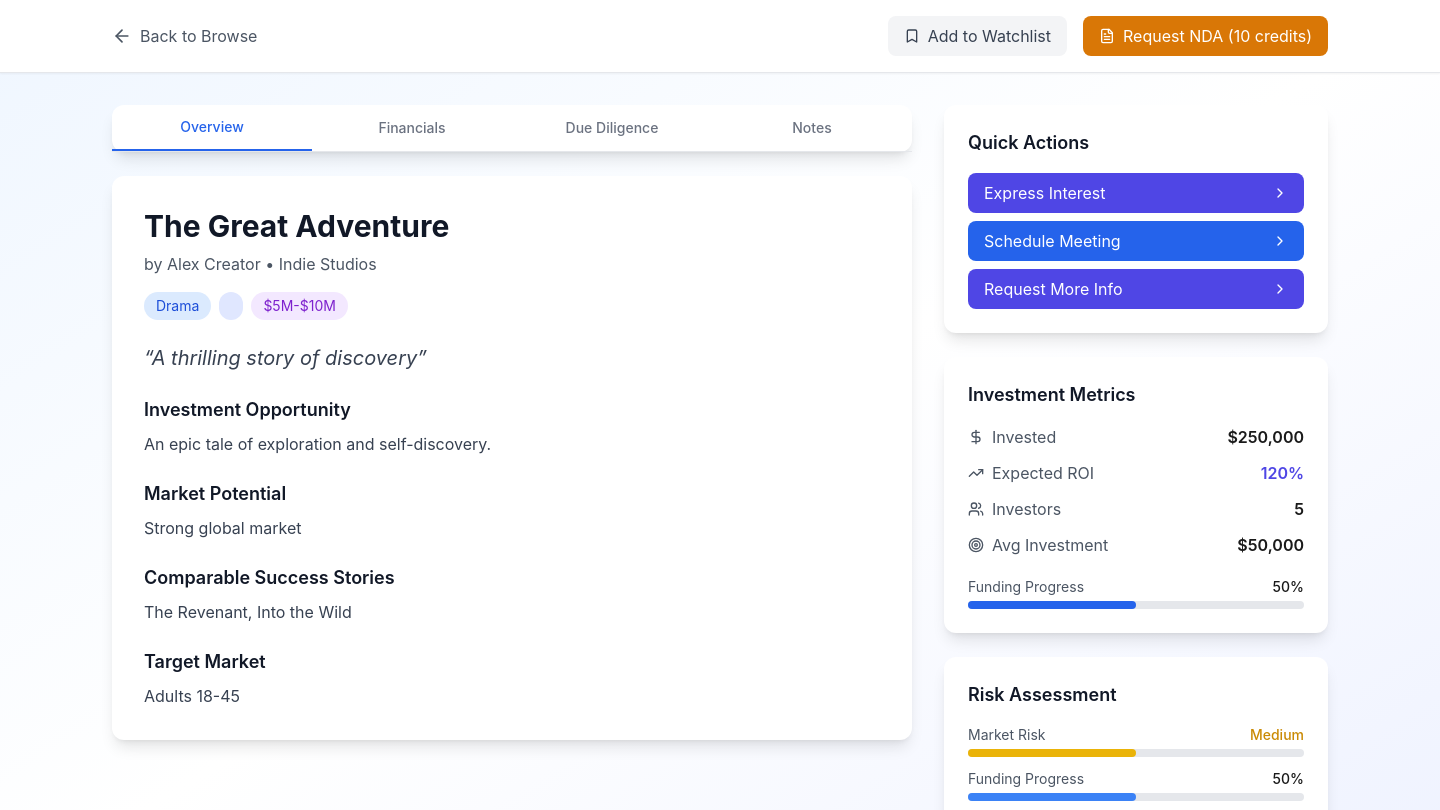
InvestorPitchView › Tab Navigation › switches to financials tab
Expected: the heading "The Great Adventure" is shown, [144, 208, 449, 244]
What coordinates should you click on to do the following:
click the button "financials"
I would click on:
 (412, 128)
Its box is [312, 105, 512, 151].
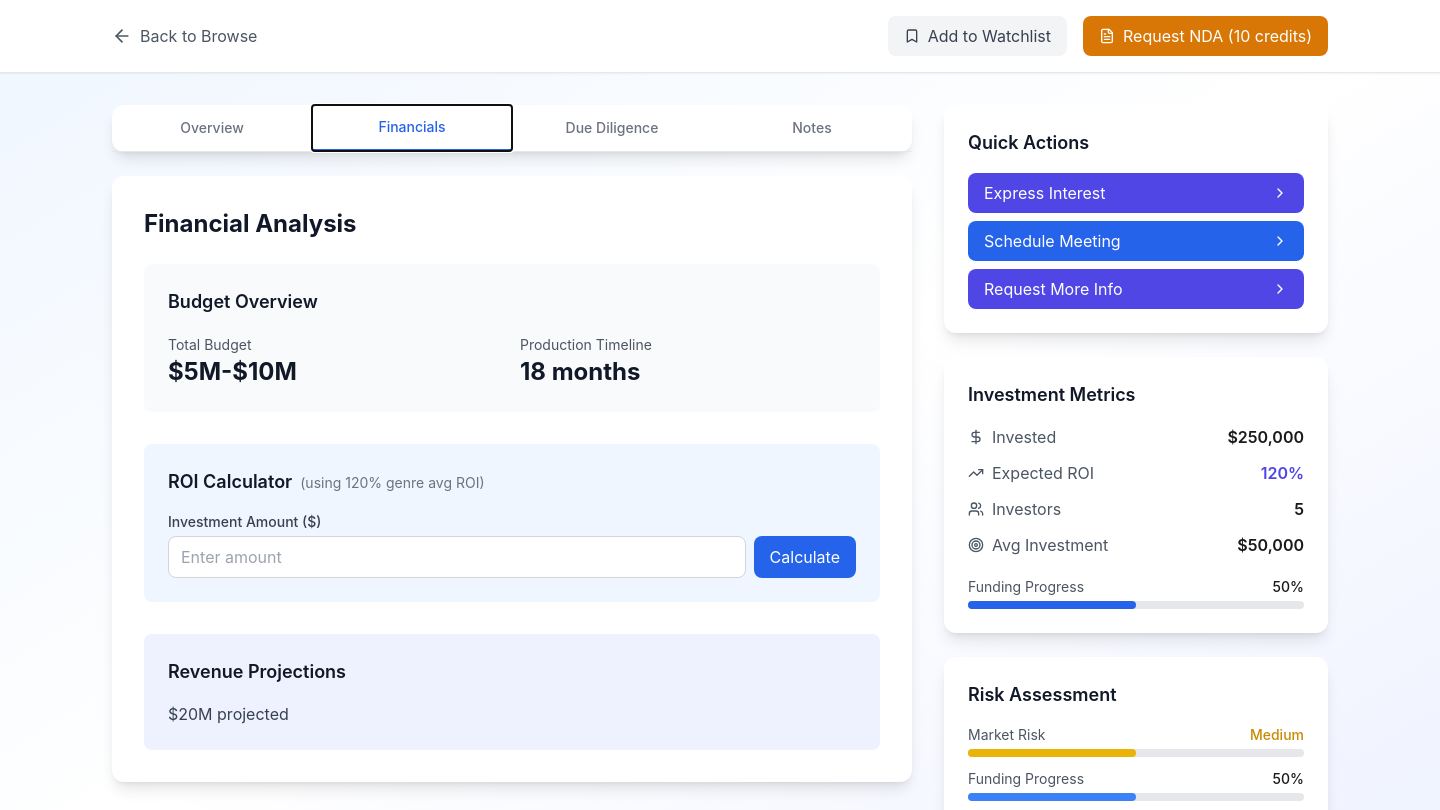
Expected: the heading "Financial Analysis" is shown, [144, 209, 356, 238]
